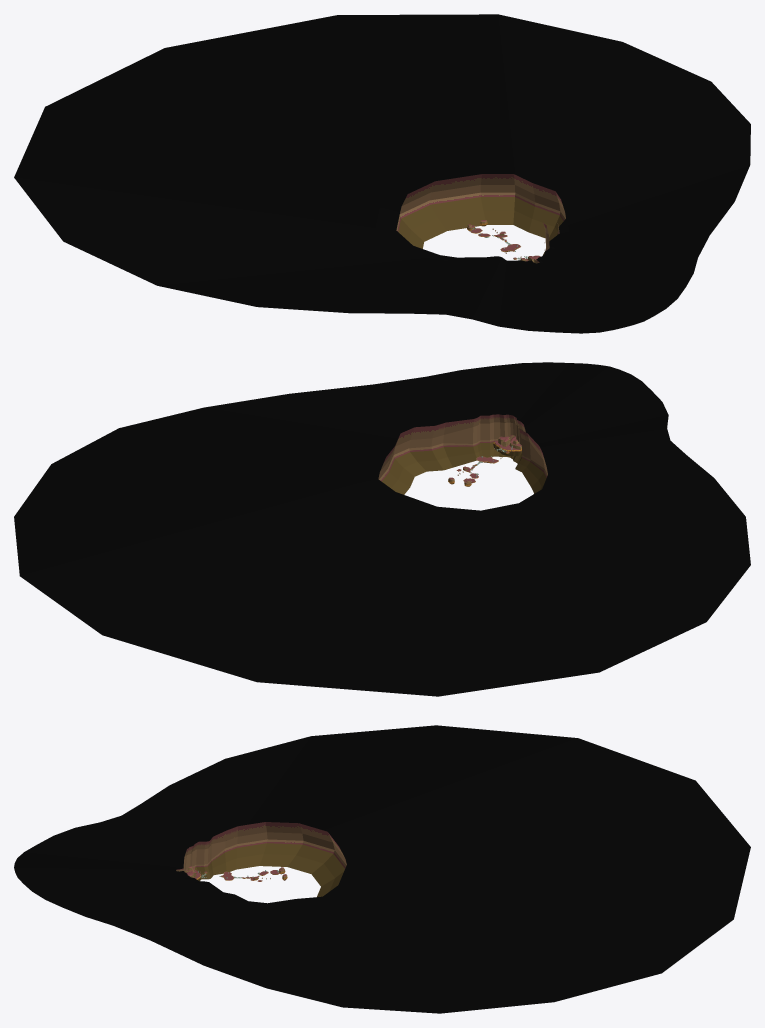
Rendered from trainingCave.glb.
3 views of the same model, one above another, from view 1: azimuth 30°, elevation 25°; view 2: azimuth 150°, elevation 25°; view 3: azimuth 270°, elevation 25° (orthographic). The views are drawn at different scales.
Parts seen in each view (by area): view 1: Plane.047, Plane.048; view 2: Plane.047, Plane.048; view 3: Plane.047, Plane.048.
Boxes of the visible parts, x1,y1,x2,y2 form: Plane.047: [14, 14, 750, 333]; Plane.048: [398, 197, 563, 255]; Plane.047: [14, 362, 750, 696]; Plane.048: [382, 442, 546, 494]; Plane.047: [14, 725, 750, 1013]; Plane.048: [194, 843, 344, 896].
Bounding box in the file's own units: 725 × 48.72 × 783.
Materials: 6 (3 with a texture image).
